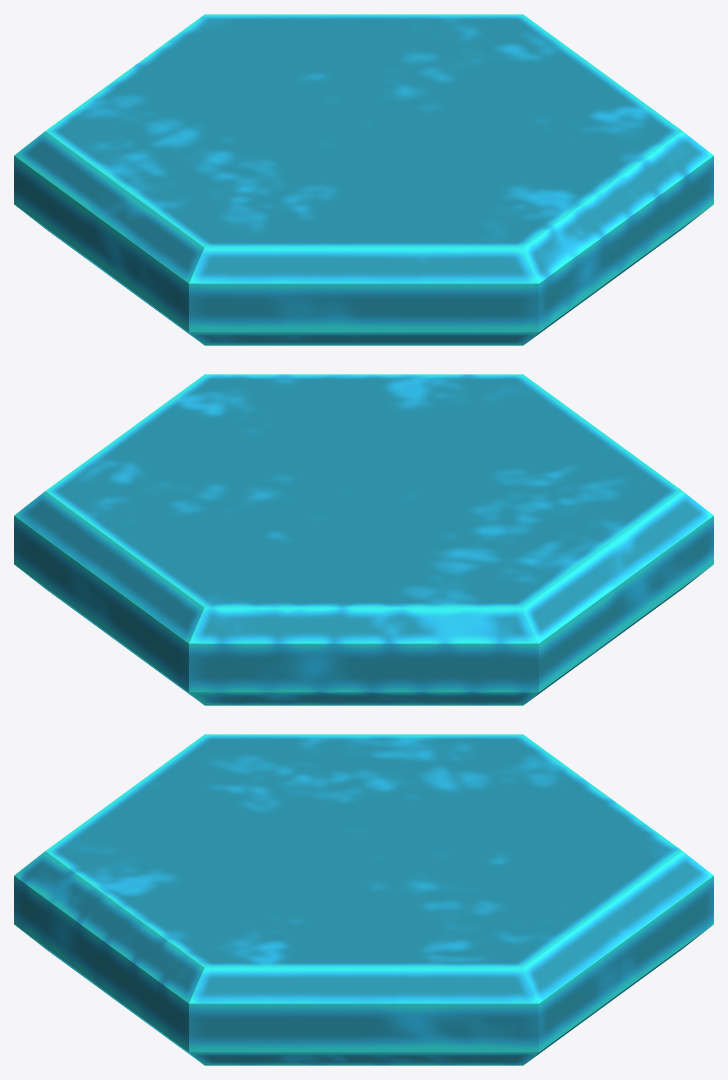
File: tiles animation2 1.fbx
3 renders of one model, top to bottom at view 1: azimuth 30°, elevation 25°; view 2: azimuth 150°, elevation 25°; view 3: azimuth 270°, elevation 25°, orthographic.
Parts seen in each view (by area): view 1: pCylinder1; view 2: pCylinder1; view 3: pCylinder1.
Part boxes in pixels (bbox=[...]): pCylinder1: bbox=[14, 14, 713, 345]; pCylinder1: bbox=[14, 374, 713, 705]; pCylinder1: bbox=[14, 734, 713, 1065].
Size of the model in its own units: 100 by 17.85 by 116.
1 material, 1 textured.
